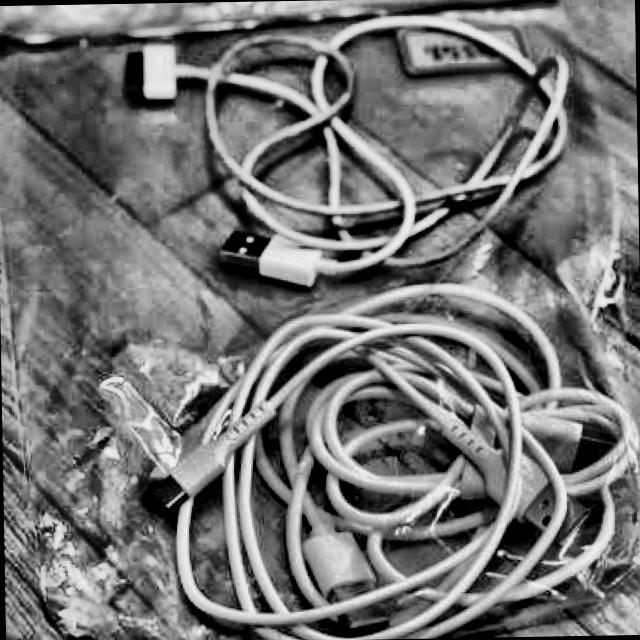Cable: (143, 280, 640, 640), (127, 8, 577, 292)
